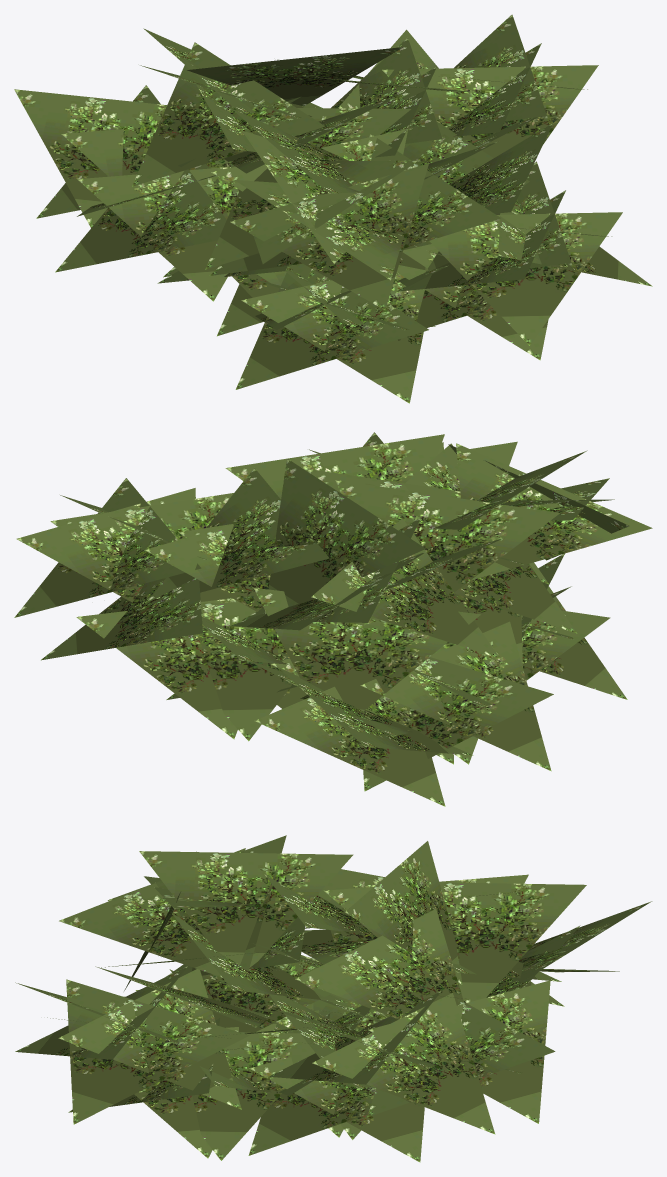
The model's file is fig_top_b.glb.
The picture shows the model from 3 angles, top to bottom: view 1: azimuth 30°, elevation 25°; view 2: azimuth 150°, elevation 25°; view 3: azimuth 270°, elevation 25°; orthographic projection. The views are drawn at different scales.
Size of the model in its own units: 18.46 by 7.92 by 20.72.
Materials: 1 (1 with a texture image).
